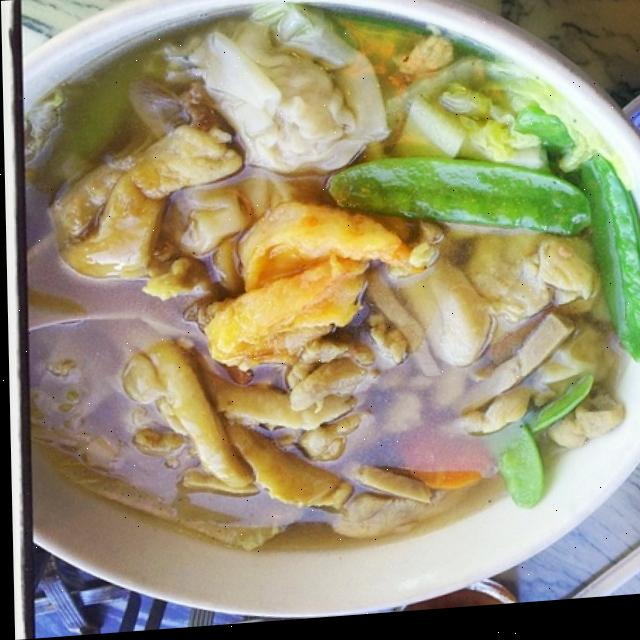汤锅炖物: (18, 0, 640, 638)
